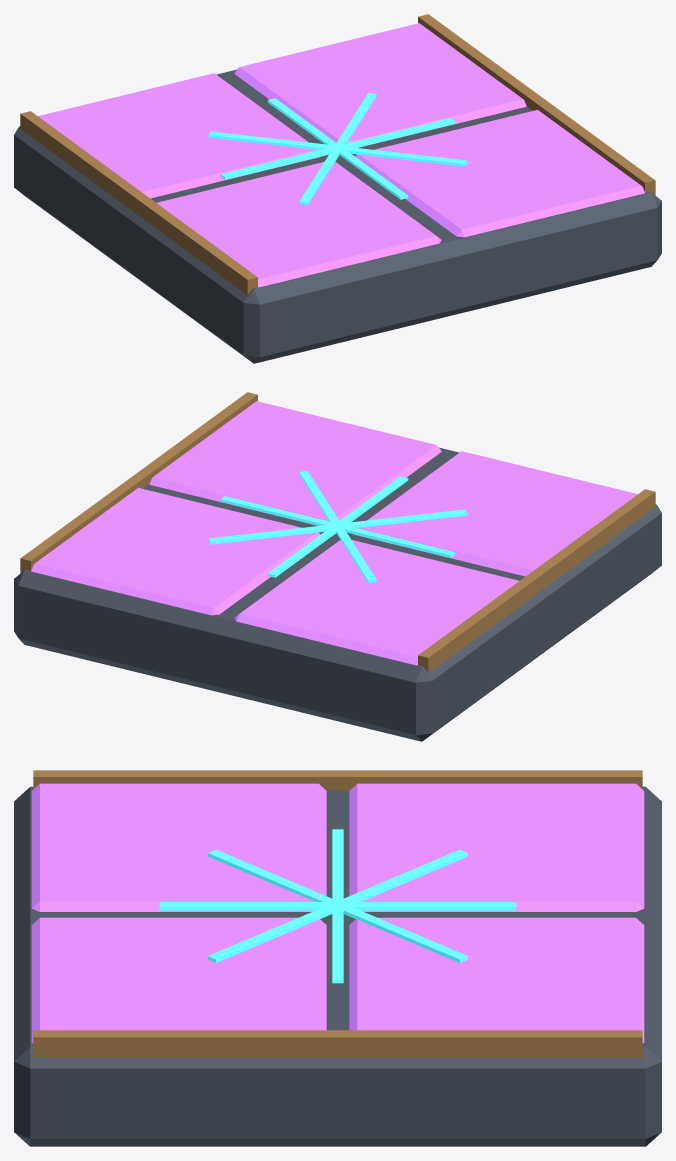
The model's file is floor-library.fbx.
3 views of the same model, one above another, from view 1: azimuth 30°, elevation 25°; view 2: azimuth 150°, elevation 25°; view 3: azimuth 270°, elevation 25° (orthographic). The views are drawn at different scales.
Visible parts, largest first — view 1: foundation.001, inset flagstone.006, inset flagstone.007, inset flagstone.004, inset flagstone.005, border rail.002, border rail.003, arcane inlay.003, arcane inlay, arcane inlay.002, arcane inlay.001; view 2: foundation.001, inset flagstone.007, inset flagstone.006, inset flagstone.005, inset flagstone.004, border rail.002, border rail.003, arcane inlay.001, arcane inlay, arcane inlay.002, arcane inlay.003; view 3: foundation.001, inset flagstone.004, inset flagstone.005, inset flagstone.006, inset flagstone.007, border rail.003, border rail.002, arcane inlay.002, arcane inlay.003, arcane inlay.001, arcane inlay.
Boxes of the visible parts, x1,y1,x2,y2 form: foundation.001: (14,69,661,363); inset flagstone.006: (355,109,644,237); inset flagstone.007: (234,23,526,147); inset flagstone.004: (156,162,441,287); inset flagstone.005: (38,73,320,198); border rail.002: (20,111,257,294); border rail.003: (418,14,655,195); arcane inlay.003: (208,131,467,166); arcane inlay: (220,118,455,179); arcane inlay.002: (267,98,408,199); arcane inlay.001: (299,93,376,204); foundation.001: (14,447,661,741); inset flagstone.007: (31,487,320,615); inset flagstone.006: (149,401,441,525); inset flagstone.005: (234,540,519,665); inset flagstone.004: (355,451,637,576); border rail.002: (418,489,655,672); border rail.003: (20,392,257,573); arcane inlay.001: (208,509,467,544); arcane inlay: (220,496,455,557); arcane inlay.002: (267,476,408,577); arcane inlay.003: (299,471,376,582); foundation.001: (14,786,661,1146); inset flagstone.004: (31,783,326,911); inset flagstone.005: (349,783,644,911); inset flagstone.006: (31,917,326,1042); inset flagstone.007: (349,917,644,1042); border rail.003: (33,1030,642,1057); border rail.002: (33,770,642,790); arcane inlay.002: (159,902,516,910); arcane inlay.003: (208,849,467,962); arcane inlay.001: (208,849,467,962); arcane inlay: (332,829,343,983).
Size of the model in its own units: 100 by 19.25 by 100.
